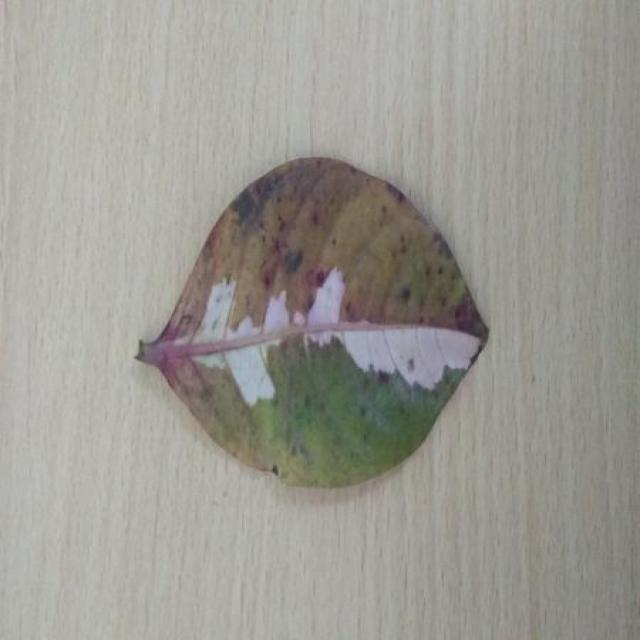caricature: (138, 158, 487, 486)
late blightcaricature: (165, 158, 487, 341)
